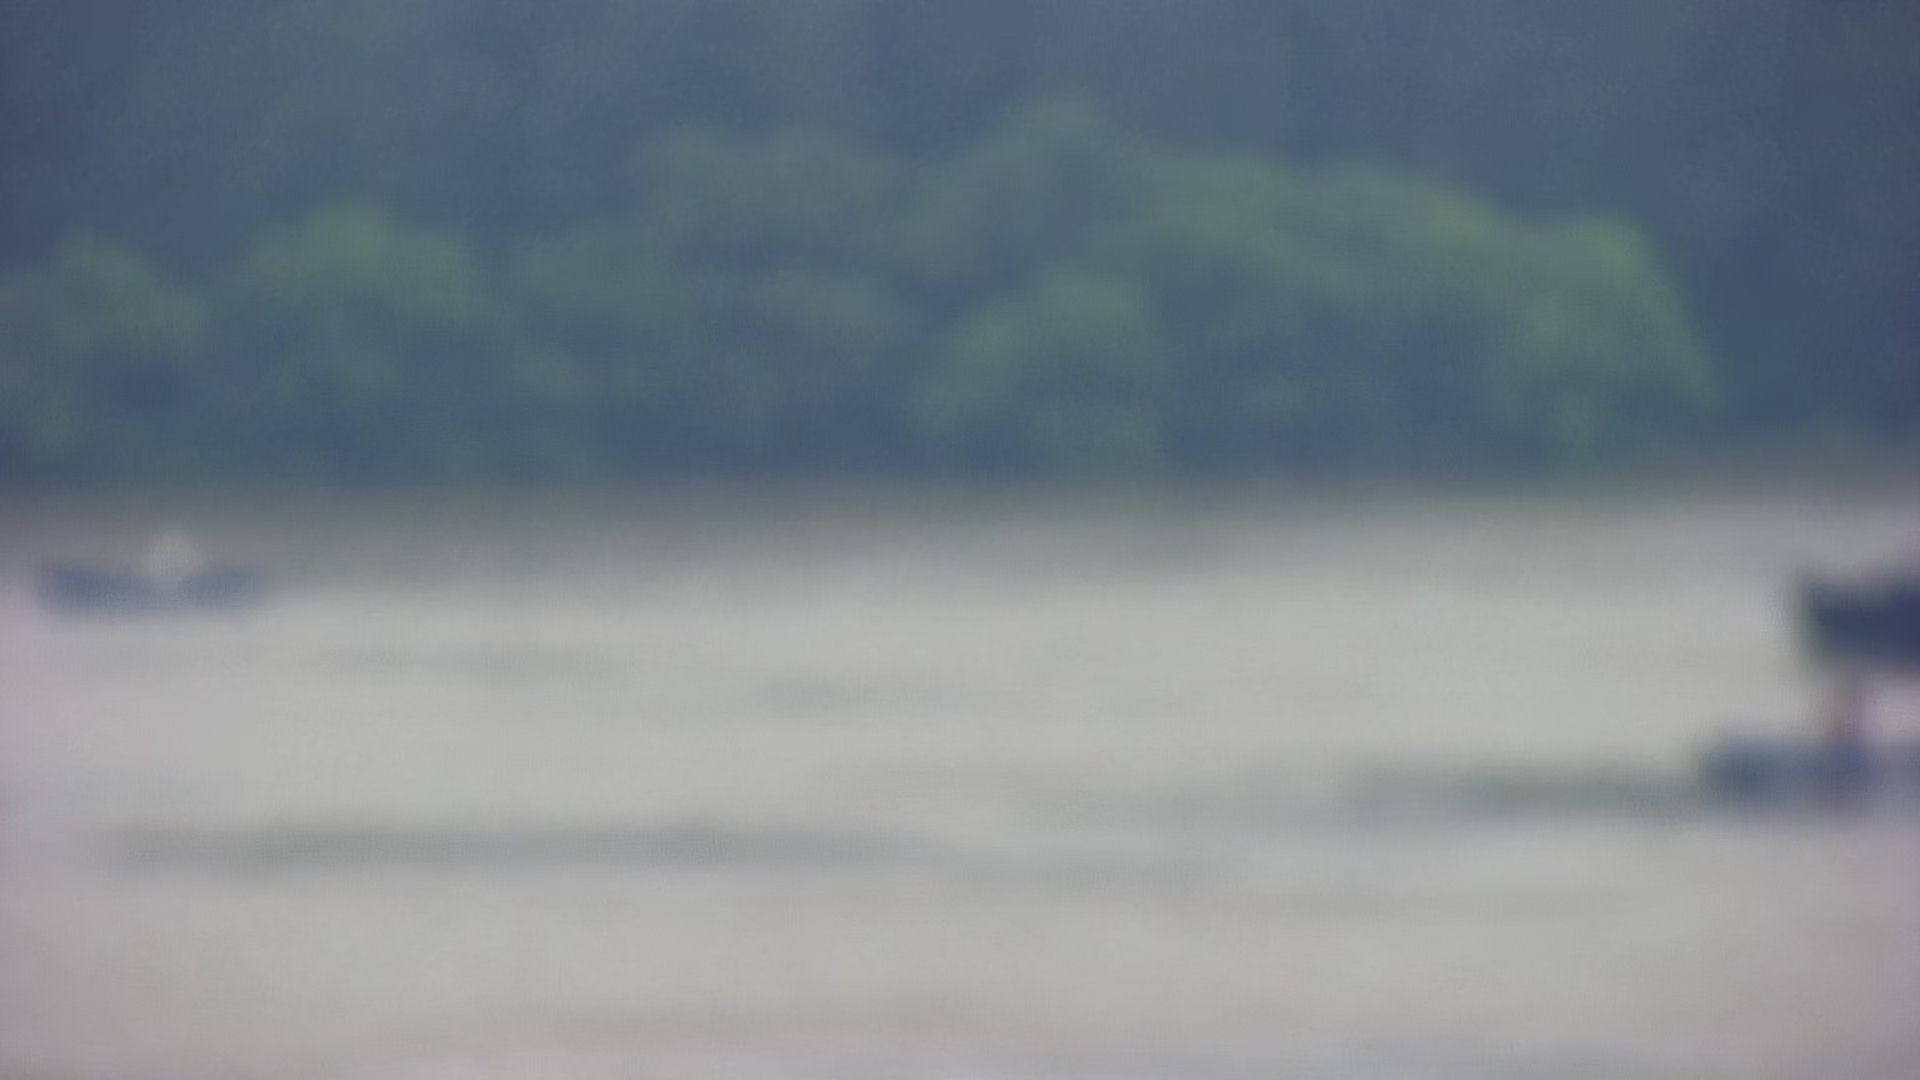boat: (20, 514, 291, 640)
